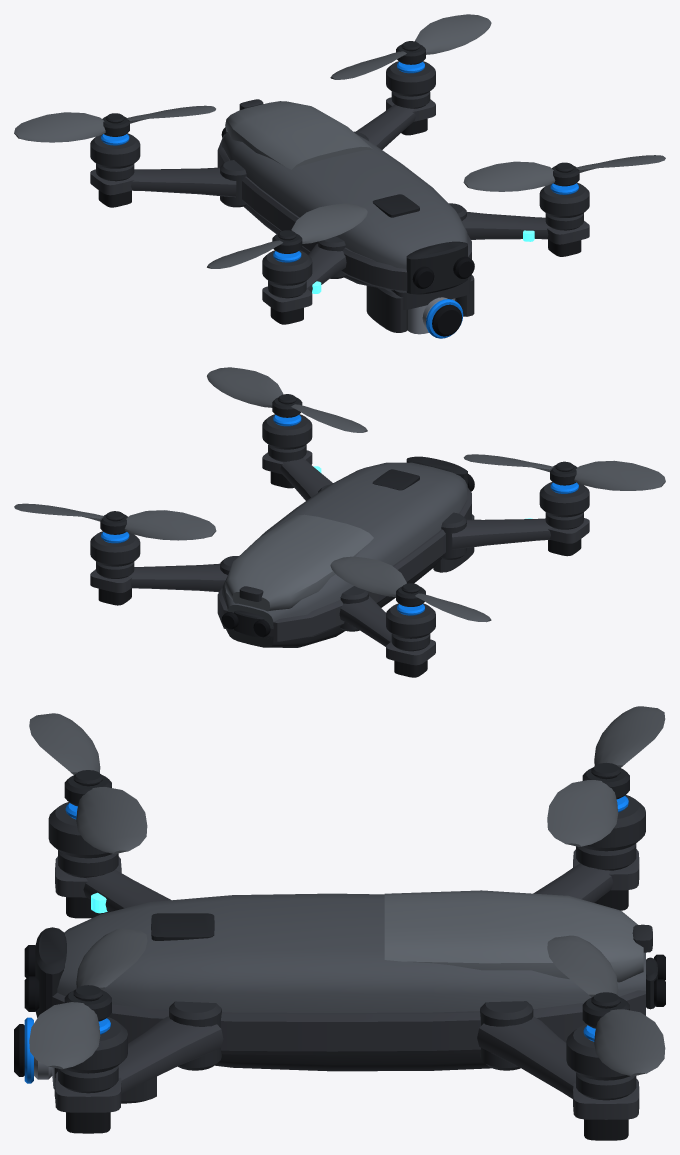
Rendered from drone.glb.
The picture shows the model from 3 angles, top to bottom: view 1: azimuth 30°, elevation 25°; view 2: azimuth 150°, elevation 25°; view 3: azimuth 270°, elevation 25°; orthographic projection. The views are drawn at different scales.
Visible parts, largest first — view 1: Drone_Body, Prop_FR, Prop_BL, Prop_BR, Prop_FL, Drone_Gimbal; view 2: Drone_Body, Prop_BR, Prop_FL, Prop_BL, Prop_FR; view 3: Drone_Body, Prop_BR, Prop_FL, Prop_BL, Prop_FR, Drone_Gimbal.
Part boxes in pixels (x1,y1,x2,y2): Drone_Body: (90,61,589,332); Prop_FR: (463,155,665,191); Prop_BL: (14,105,215,142); Prop_BR: (330,14,491,79); Prop_FL: (207,203,367,268); Drone_Gimbal: (407,297,463,338); Drone_Body: (90,414,589,677); Prop_BR: (14,503,216,540); Prop_FL: (463,454,665,490); Prop_BL: (330,556,491,622); Prop_FR: (207,367,367,432); Drone_Body: (24,795,665,1140); Prop_BR: (547,935,665,1076); Prop_FL: (29,713,147,854); Prop_BL: (547,706,665,846); Prop_FR: (29,928,147,1069); Drone_Gimbal: (14,1017,54,1089).
Size of the model in its own units: 1 by 0.2561 by 0.7518.
